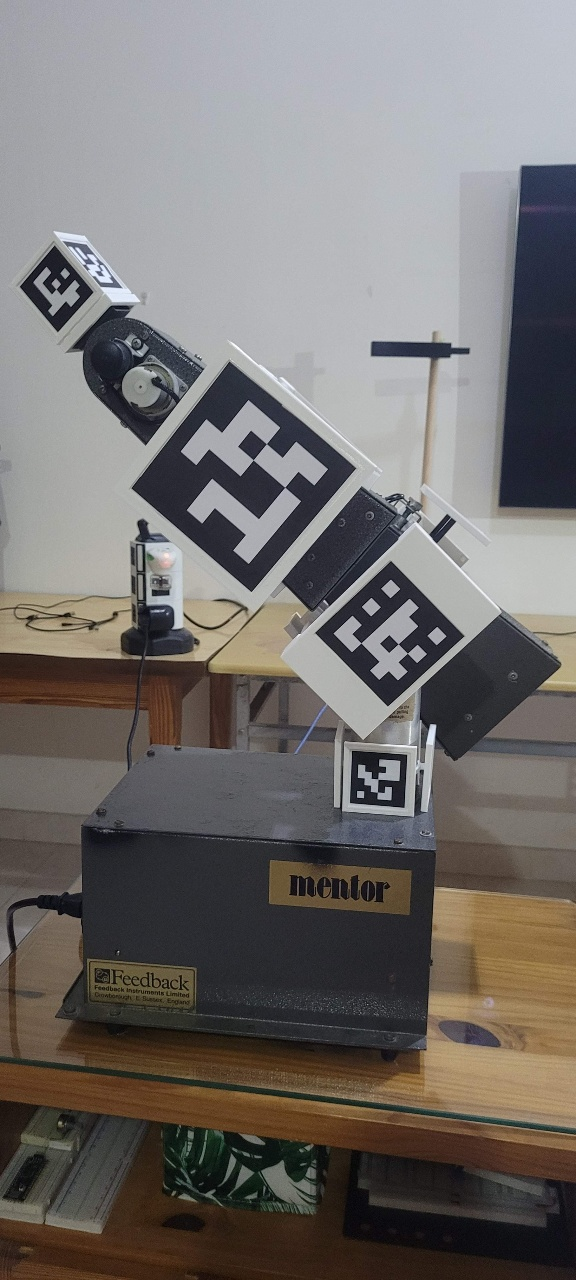Robot: (11, 228, 565, 821)
